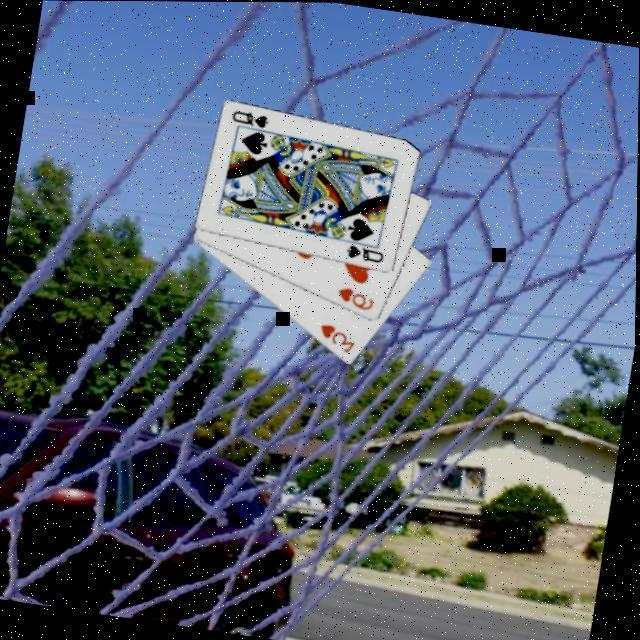3H: (316, 318, 362, 356)
6H: (336, 282, 380, 312)
QS: (344, 238, 390, 264), (230, 104, 274, 130)
